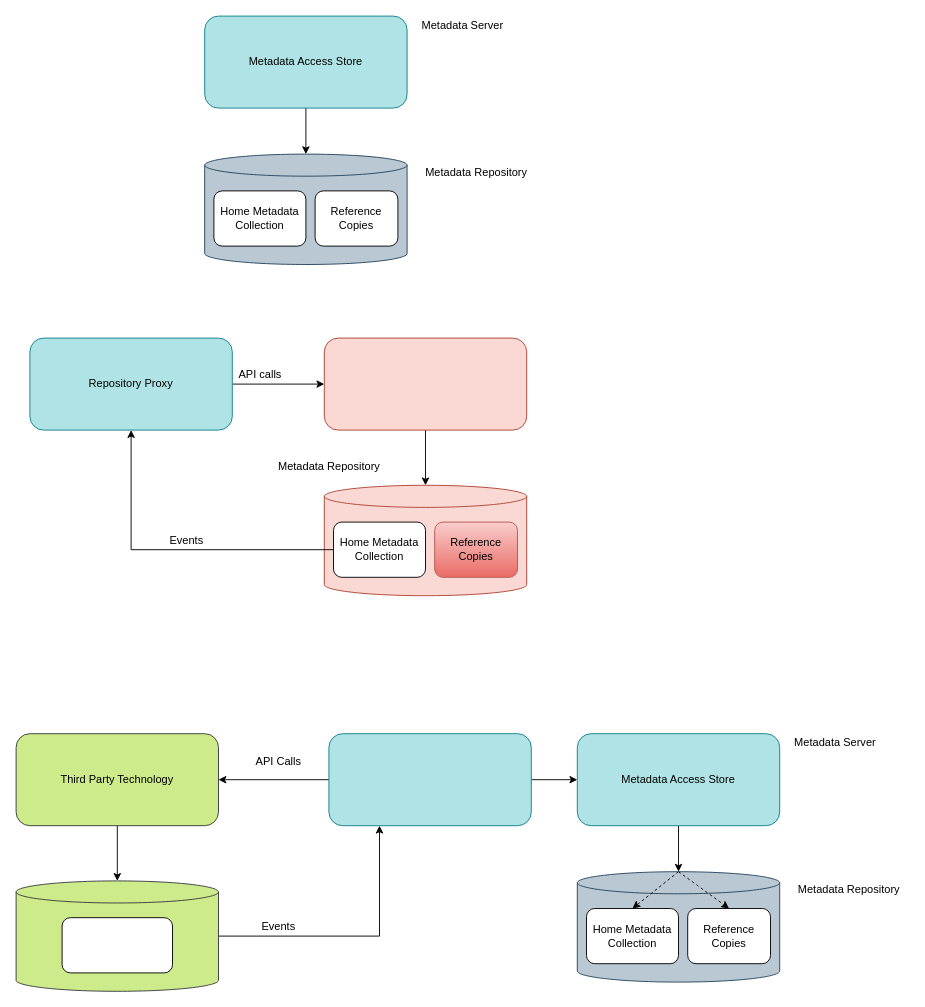
Some shapes in this 925 by 1007 pixel diagram are drawn without their labels. Here are the shapes that lost their labels. From the top down, the centre of each, then its label:
At [425,383]: "Third Party Metadata Server".
At [429,779]: "Integration Daemon".
At [116,945]: "Metadata Collection".
